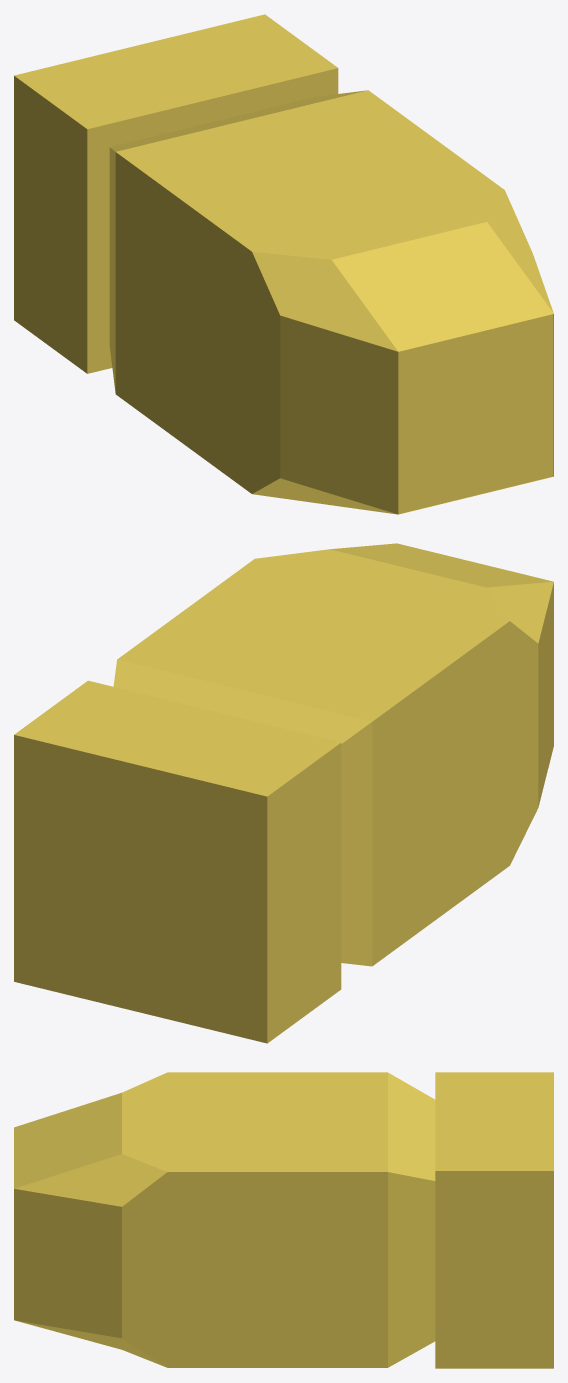
File: BetterBulletFixed.fbx
3 renders of one model, top to bottom at view 1: azimuth 30°, elevation 25°; view 2: azimuth 150°, elevation 25°; view 3: azimuth 270°, elevation 25°, orthographic. The views are drawn at different scales.
Visible parts, largest first — view 1: Cube; view 2: Cube; view 3: Cube.
Boxes of the visible parts, box(x1,y1,x2,y2) form: Cube: box(14, 14, 553, 514); Cube: box(14, 543, 553, 1043); Cube: box(14, 1072, 553, 1368).
Bounding box in the file's own units: 398 × 368 × 911.
